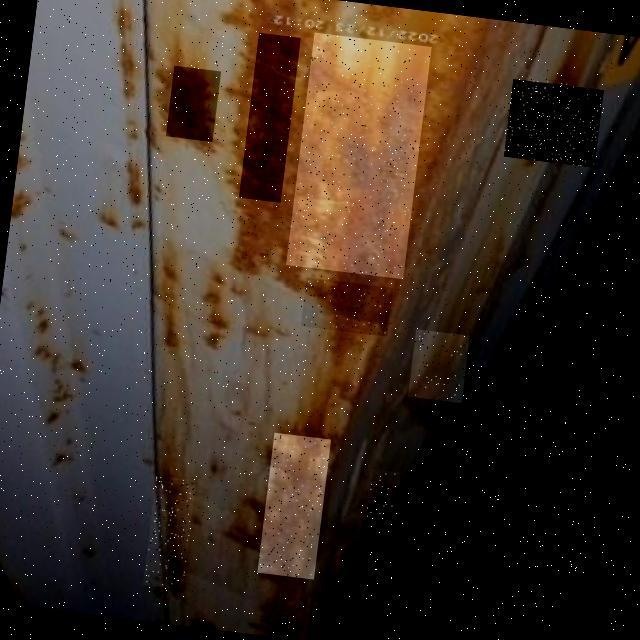Rust: (286, 32, 432, 279), (257, 432, 331, 579), (239, 33, 301, 203), (504, 76, 604, 167), (143, 475, 196, 589), (301, 277, 393, 336), (408, 329, 470, 403), (166, 66, 221, 142), (364, 469, 400, 522)
